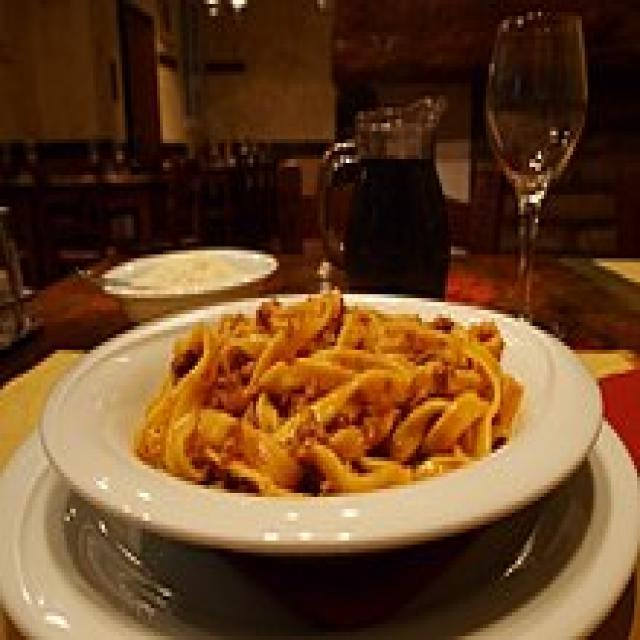Pasta al ragu: (90, 251, 631, 541)
